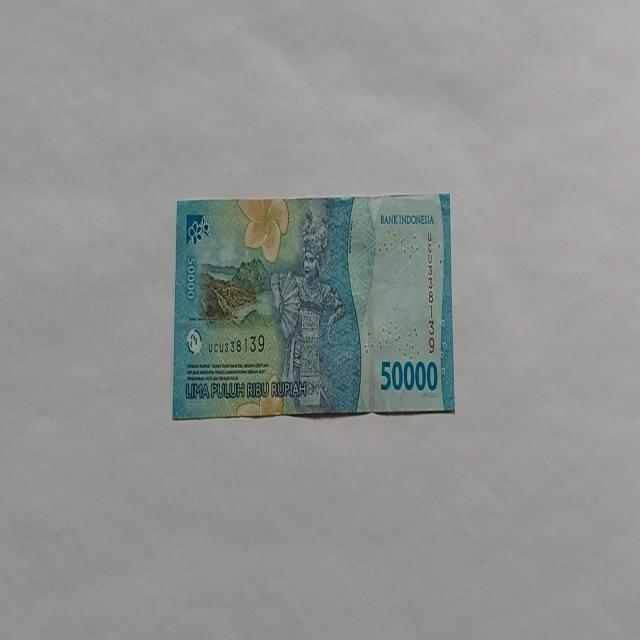lima puluh ribu rupiah: (170, 192, 456, 420)
